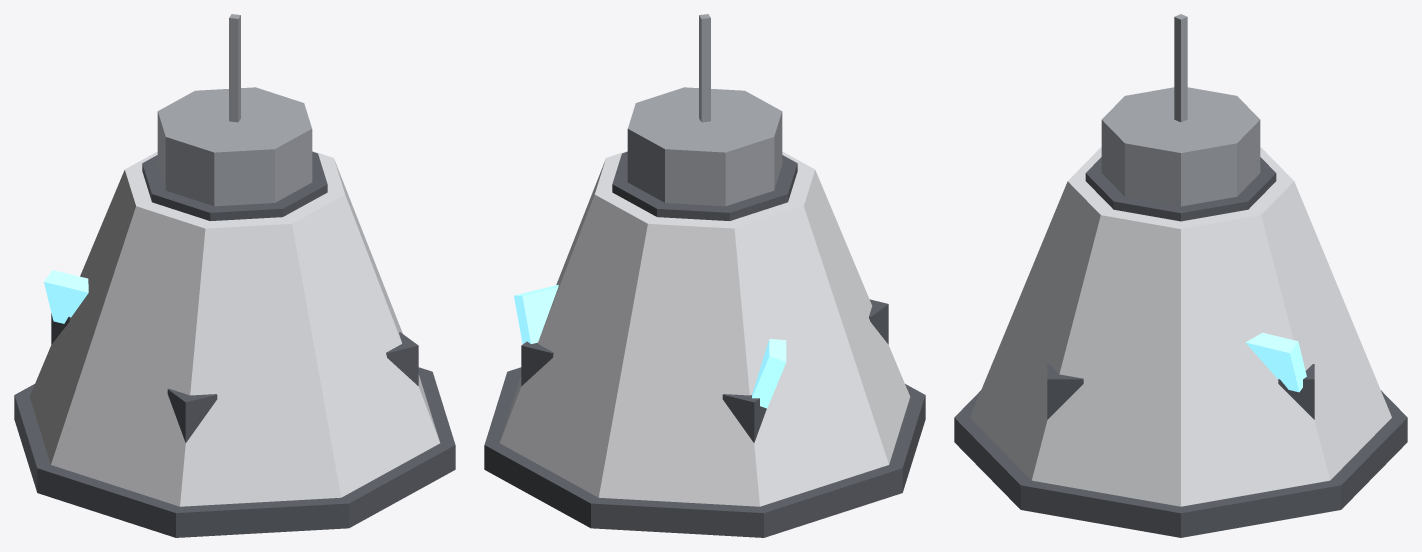
The model's file is capsule_duo.glb.
3 views of the same model, side by side, from view 1: azimuth 30°, elevation 25°; view 2: azimuth 150°, elevation 25°; view 3: azimuth 270°, elevation 25° (orthographic).
Parts seen in each view (by area): view 1: capsule_duo; view 2: capsule_duo; view 3: capsule_duo.
Boxes of the visible parts, x1,y1,x2,y2 form: capsule_duo: (14, 14, 455, 537); capsule_duo: (484, 14, 925, 537); capsule_duo: (954, 14, 1407, 537).
Bounding box in the file's own units: 2 × 2.07 × 2.
